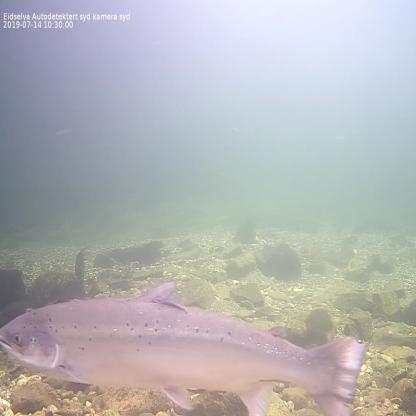salmon: (0, 278, 370, 415)
